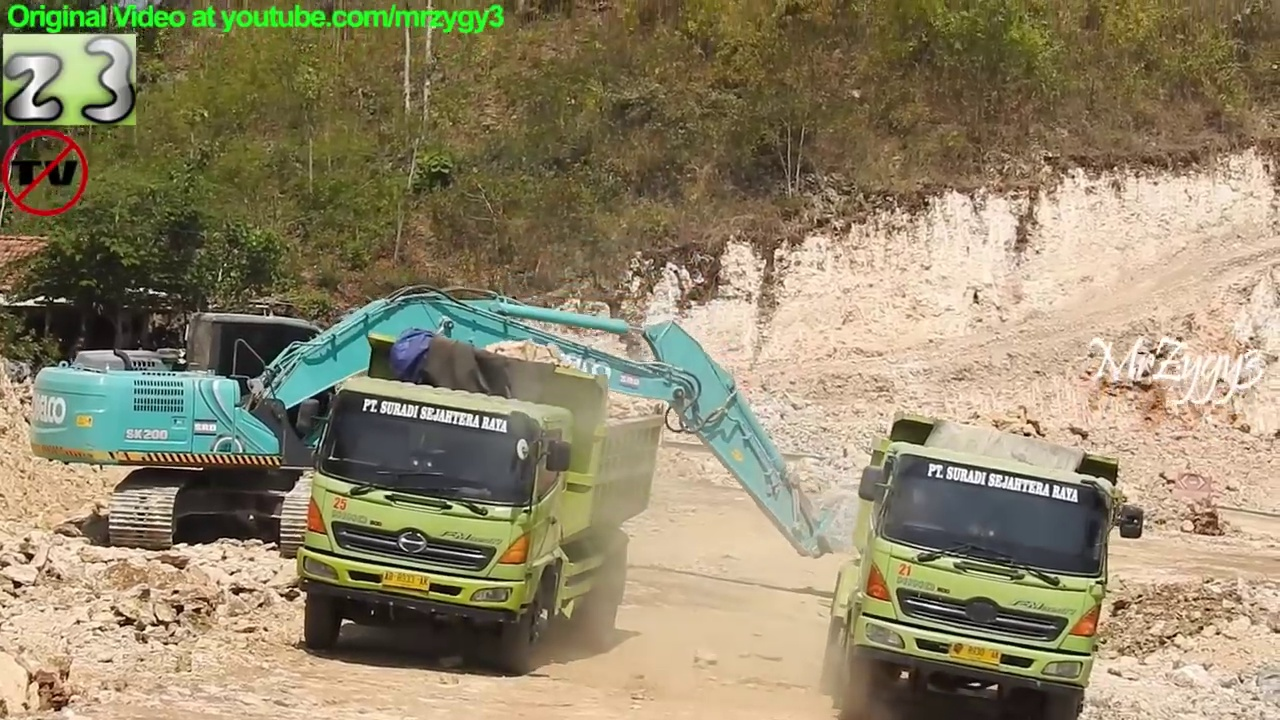excavator: (24, 276, 934, 568)
truck: (293, 327, 672, 682), (817, 403, 1149, 720)
